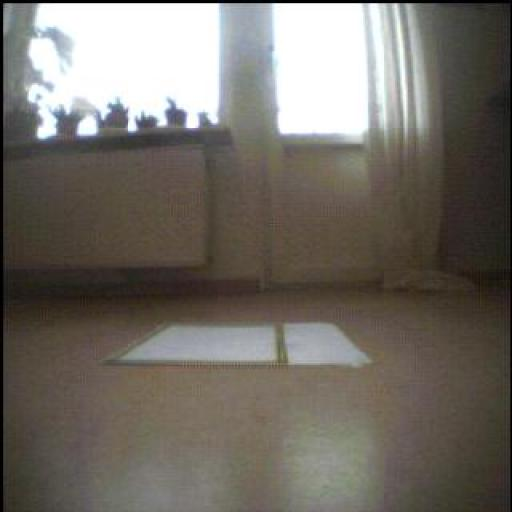Pad: (107, 325, 372, 368)
